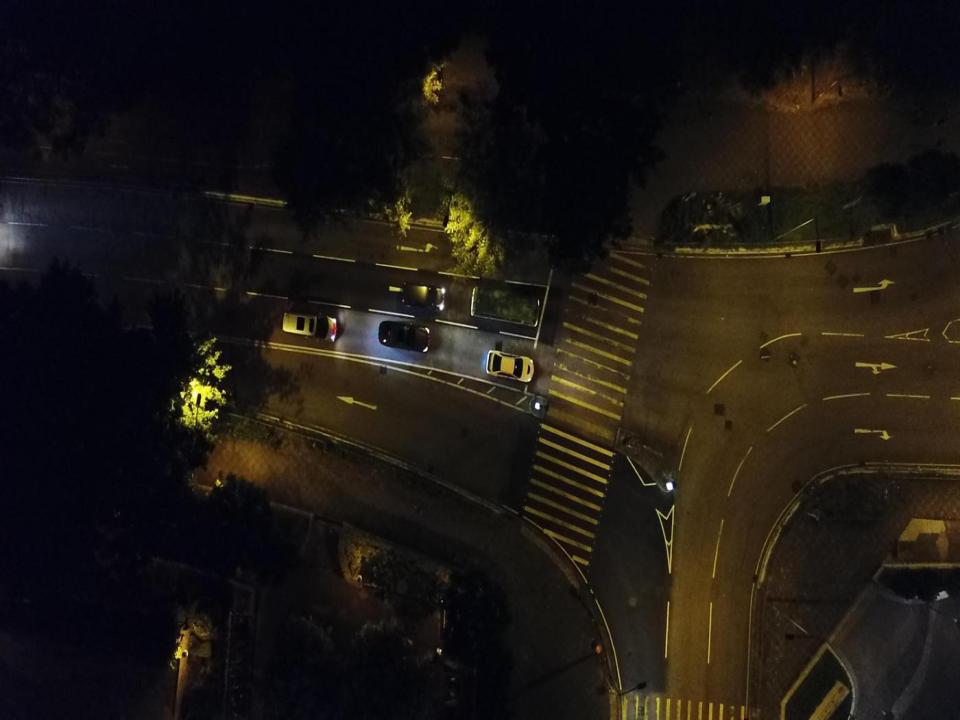car: (378, 320, 430, 354), (486, 349, 534, 383), (400, 280, 445, 312)
van: (282, 310, 338, 344)
